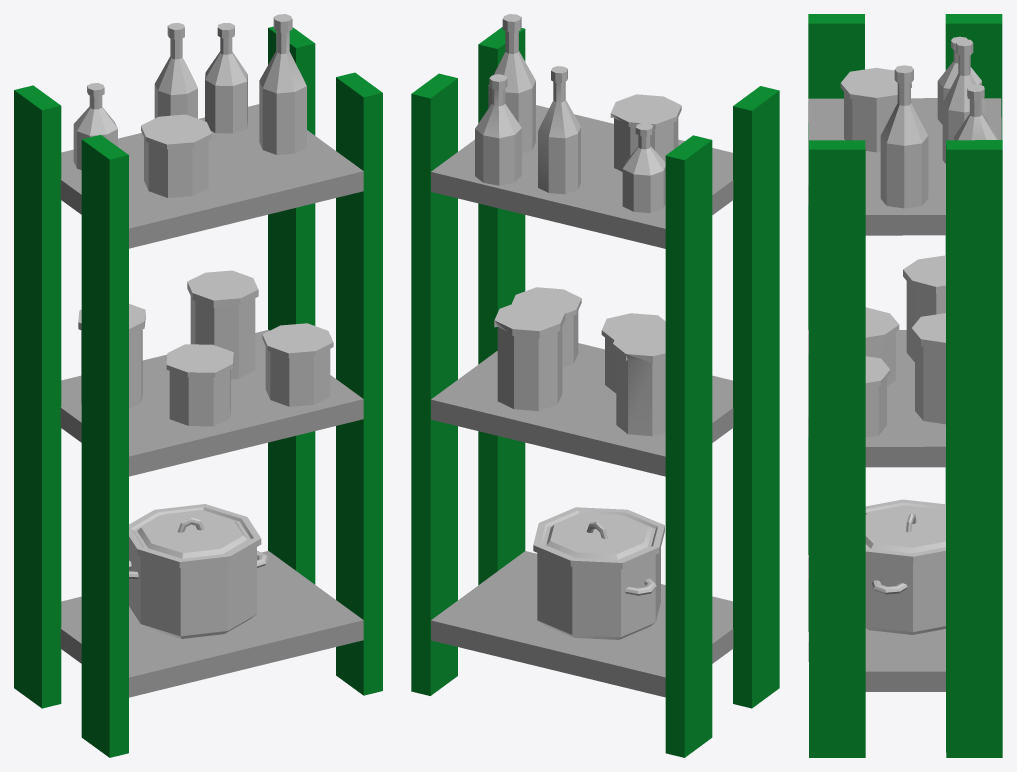
File: kittchen shelf.fbx
3 views of the same model, side by side, from view 1: azimuth 30°, elevation 25°; view 2: azimuth 150°, elevation 25°; view 3: azimuth 270°, elevation 25° (orthographic).
Visible parts, largest first — view 1: kittchen shelf, Bottle.001, Bottle.005, Bottle.002, Bottle.007, Bottle.004, Bottle.009, Bottle, Bottle.008, Bottle.006, Bottle.003; view 2: kittchen shelf, Bottle.001, Bottle.005, Bottle.003, Bottle.008, Bottle, Bottle.007, Bottle.009, Bottle.006, Bottle.002, Bottle.004; view 3: kittchen shelf, Bottle.001, Bottle.009, Bottle.007, Bottle.005, Bottle.003, Bottle.008, Bottle.002, Bottle.004, Bottle, Bottle.006.
Boxes of the visible parts, left/top/right/bottom form: kittchen shelf: left=14, top=26, right=382, bottom=757; Bottle.001: left=129, top=504, right=267, bottom=638; Bottle.005: left=187, top=270, right=258, bottom=379; Bottle.002: left=262, top=323, right=333, bottom=406; Bottle.007: left=141, top=114, right=211, bottom=197; Bottle.004: left=166, top=344, right=233, bottom=426; Bottle.009: left=259, top=14, right=306, bottom=154; Bottle: left=205, top=23, right=247, bottom=133; Bottle.008: left=154, top=23, right=197, bottom=118; Bottle.006: left=73, top=83, right=117, bottom=170; Bottle.003: left=78, top=303, right=145, bottom=408; kittchen shelf: left=411, top=27, right=779, bottom=757; Bottle.001: left=533, top=507, right=664, bottom=639; Bottle.005: left=494, top=301, right=565, bottom=411; Bottle.003: left=613, top=327, right=665, bottom=436; Bottle.008: left=538, top=66, right=580, bottom=194; Bottle: left=475, top=74, right=521, bottom=185; Bottle.007: left=610, top=94, right=681, bottom=171; Bottle.009: left=488, top=14, right=535, bottom=153; Bottle.006: left=622, top=122, right=665, bottom=212; Bottle.002: left=512, top=287, right=581, bottom=367; Bottle.004: left=601, top=313, right=665, bottom=393; kittchen shelf: left=808, top=14, right=1002, bottom=757; Bottle.001: left=865, top=499, right=945, bottom=634; Bottle.009: left=880, top=65, right=928, bottom=208; Bottle.007: left=840, top=67, right=911, bottom=152; Bottle.005: left=911, top=313, right=945, bottom=424; Bottle.003: left=903, top=255, right=945, bottom=362; Bottle.008: left=942, top=39, right=986, bottom=163; Bottle.002: left=865, top=356, right=890, bottom=437; Bottle.004: left=865, top=307, right=899, bottom=385; Bottle: left=953, top=84, right=997, bottom=140; Bottle.006: left=937, top=36, right=981, bottom=124.
Bounding box in the file's own units: 126 × 286 × 75.99.
